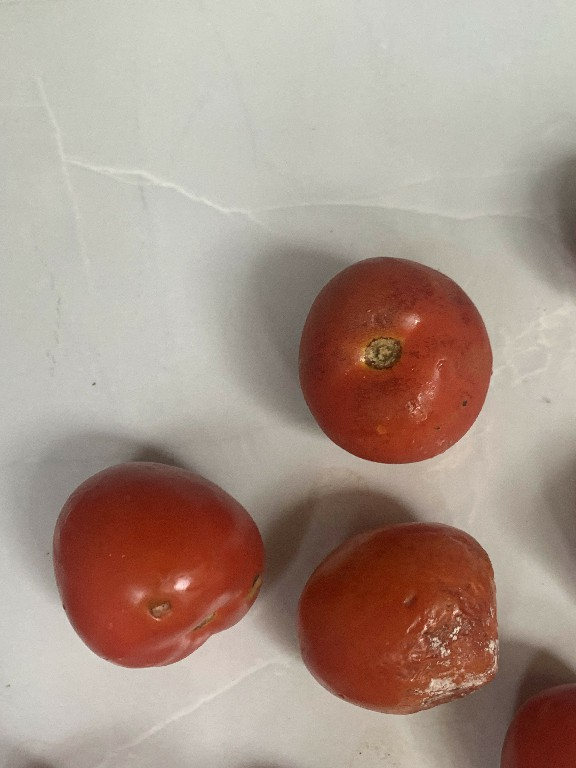NG: (45, 455, 278, 684), (298, 246, 498, 465), (293, 510, 511, 701)
